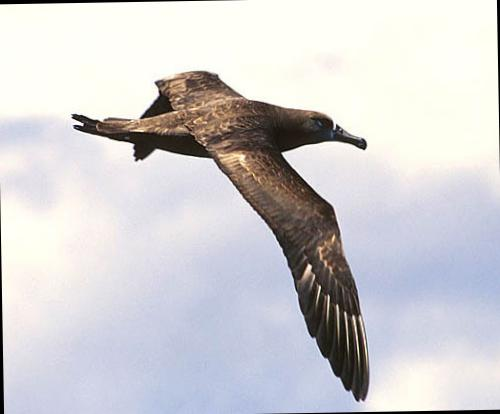bird: (41, 60, 382, 414)
